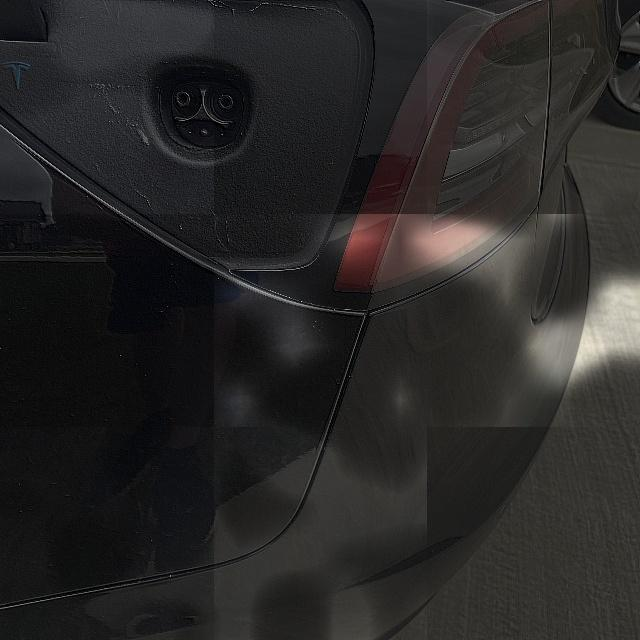Tesla Model-S-: (132, 35, 264, 194)
